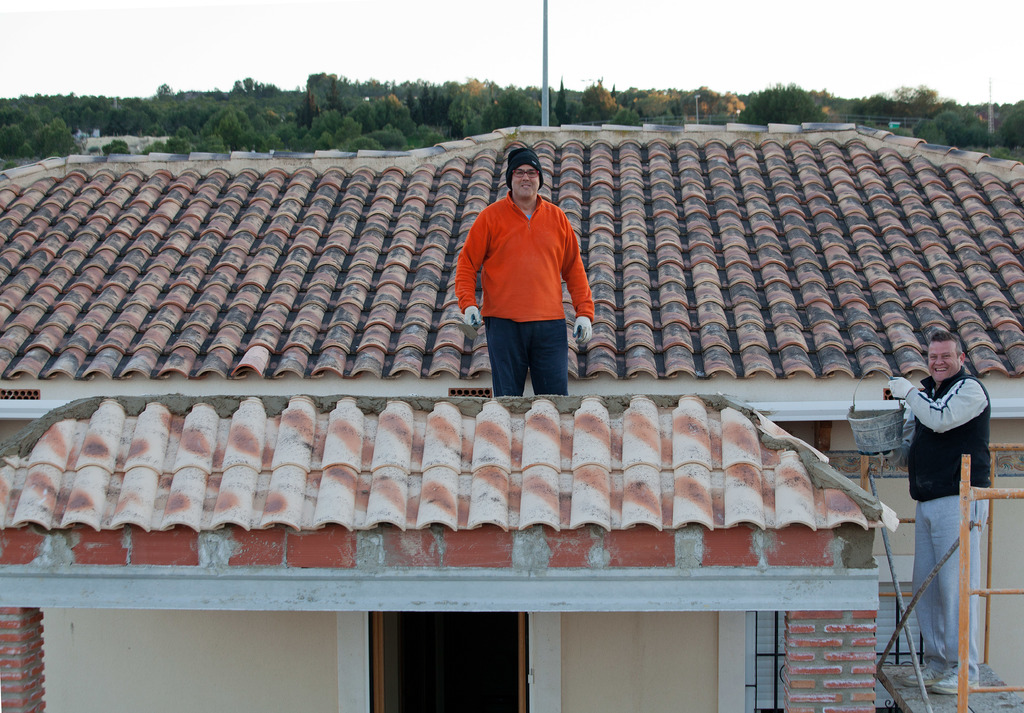person: (452, 147, 597, 396)
